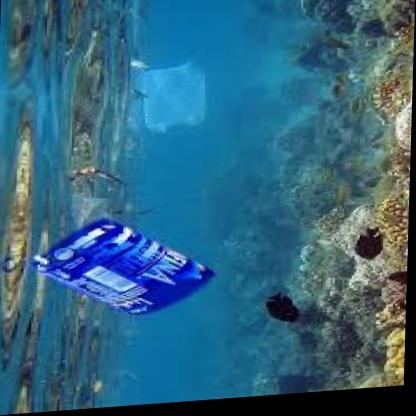trash: (33, 219, 214, 313)
